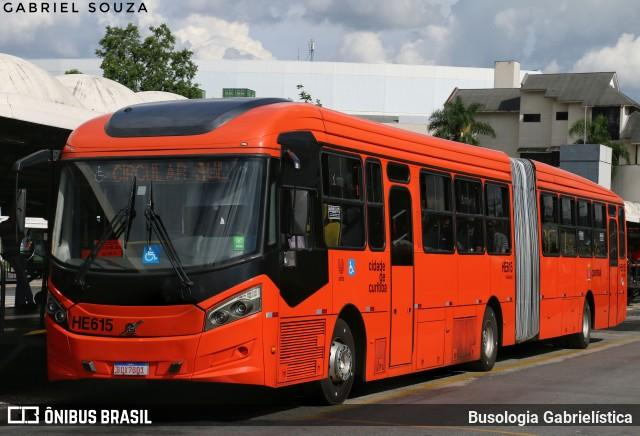CIRCULAR SUL: (109, 158, 232, 185)
